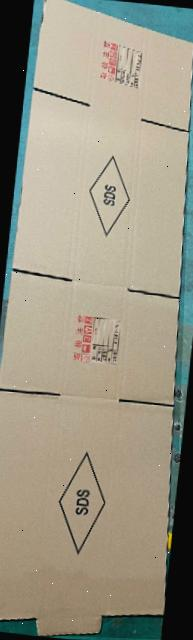box: (0, 0, 193, 635)
